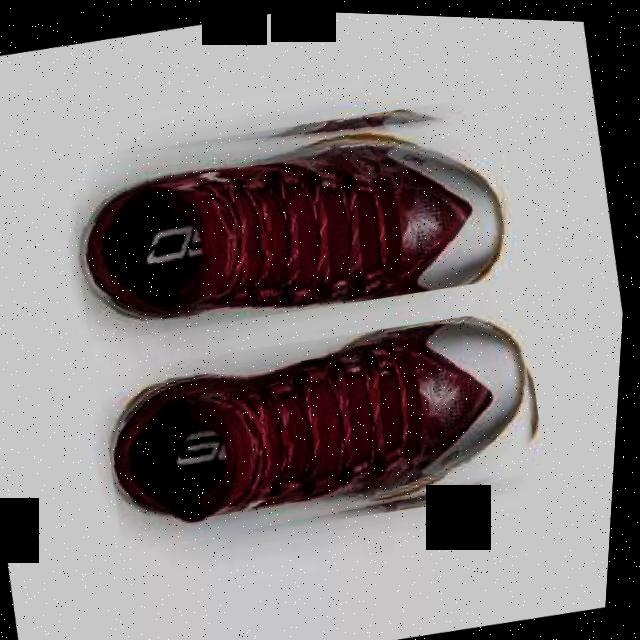shoe: (59, 79, 528, 355), (100, 293, 563, 564), (114, 313, 534, 524), (81, 123, 514, 323)
